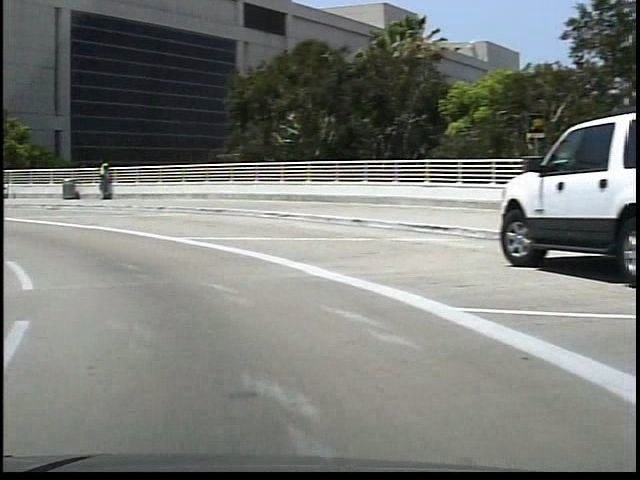person: (92, 154, 110, 201)
